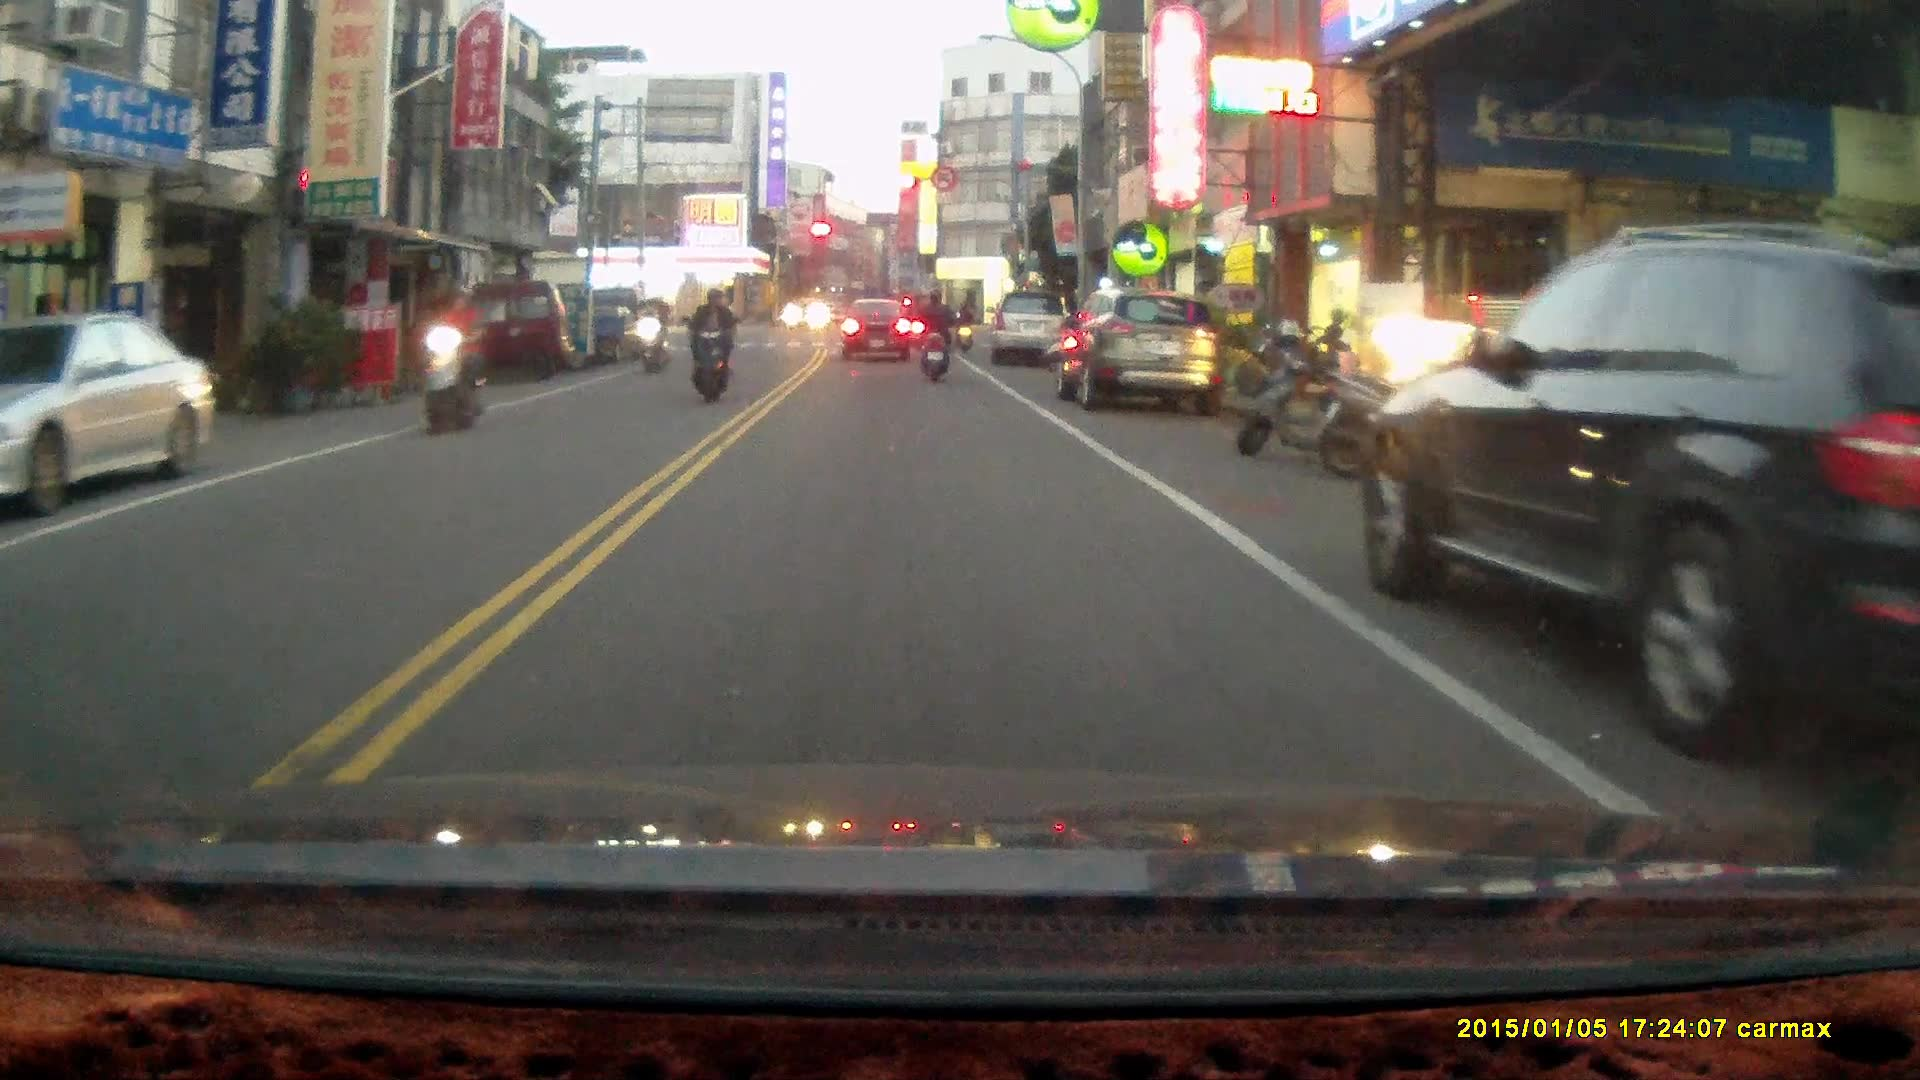rider: (419, 281, 489, 431), (685, 281, 731, 403), (913, 285, 954, 382), (633, 291, 669, 375), (953, 295, 975, 352)
vehicle: (1357, 231, 1920, 784), (1, 315, 216, 512), (1055, 288, 1220, 409), (413, 278, 578, 383), (996, 284, 1074, 363)
